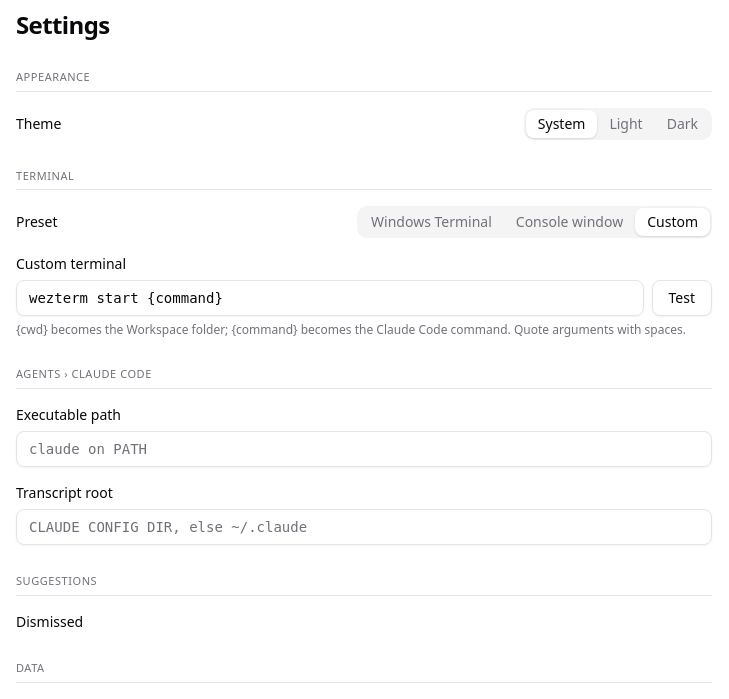
Scenario: Settings › Terminal › tests the template by launching claude --version through it
Click the button "Test": (682, 298) [652,280,712,316]
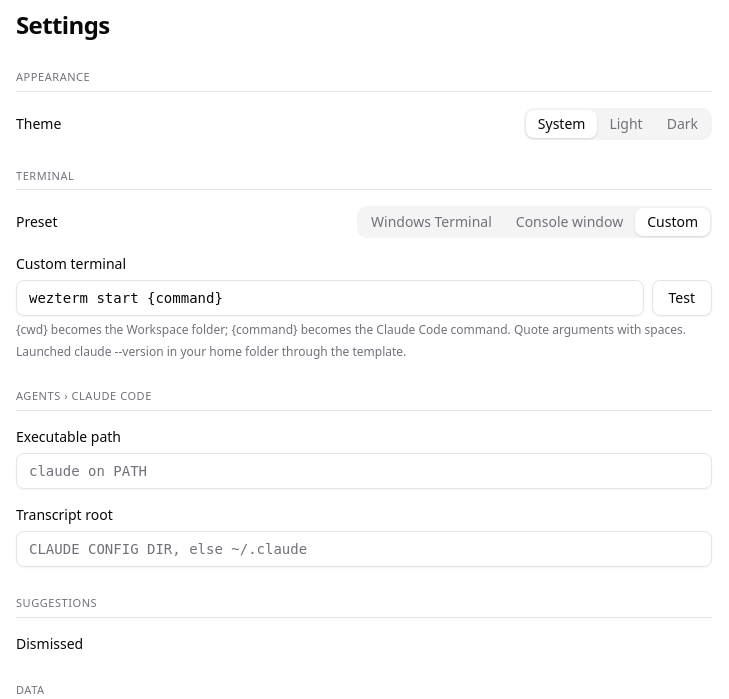
expect the text "Launched claude --version in your home folder through the template." is shown: met, box [16,343,406,360]
